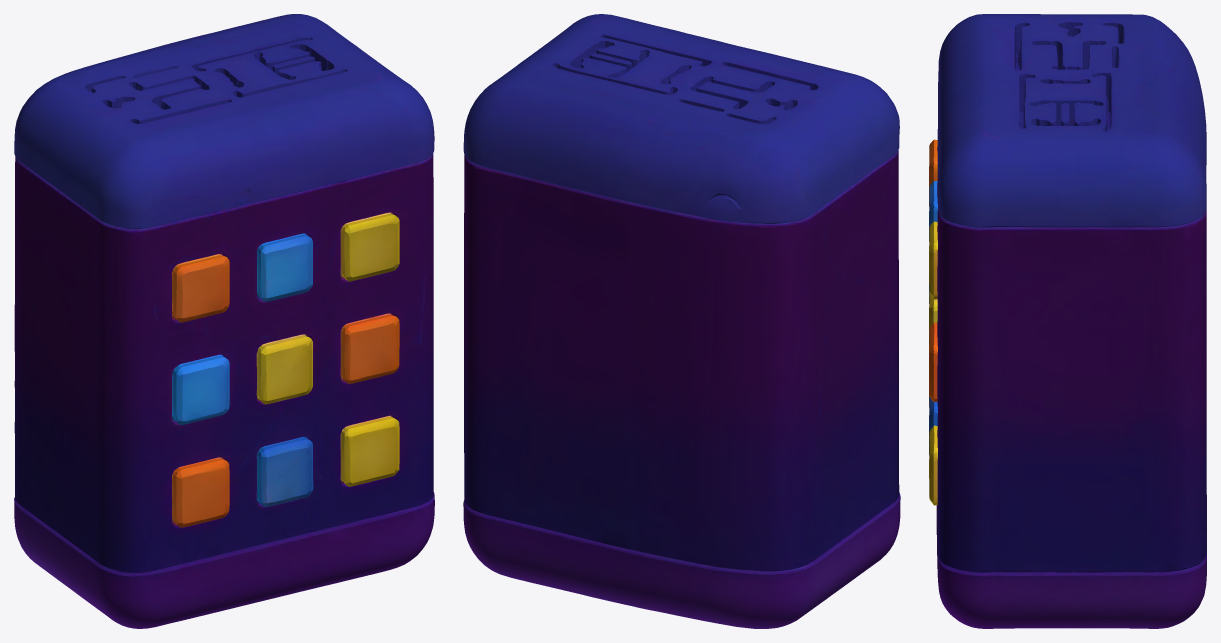
The model's file is phone.glb.
3 renders of one model, left to right at view 1: azimuth 30°, elevation 25°; view 2: azimuth 150°, elevation 25°; view 3: azimuth 270°, elevation 25°, orthographic.
Visible parts, largest first — view 1: model; view 2: model; view 3: model.
Boxes of the visible parts, bbox=[...] form: model: bbox=[14, 14, 434, 628]; model: bbox=[463, 14, 900, 628]; model: bbox=[929, 14, 1206, 628].
Bounding box in the file's own units: 0.708 × 1 × 0.5135.
Materials: 1 (1 with a texture image).
